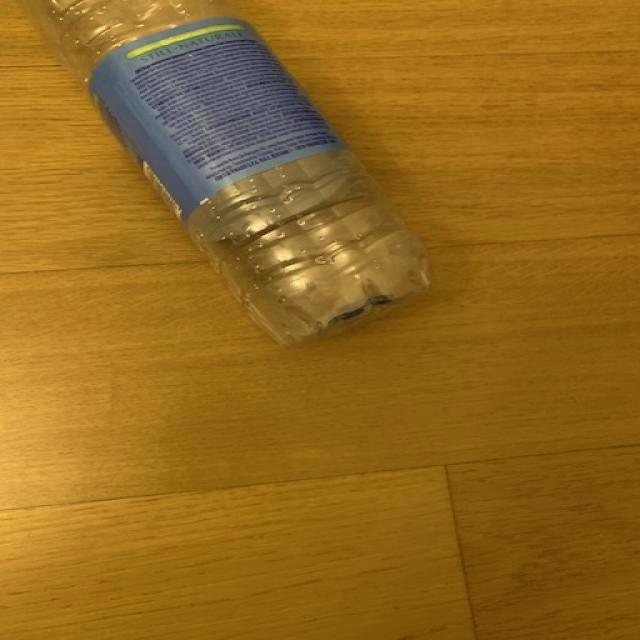bottle: (22, 0, 436, 349)
